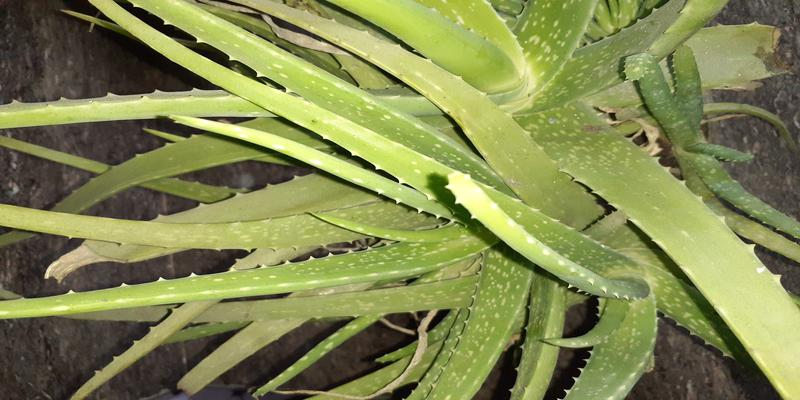Aloevera: (181, 15, 730, 370)
